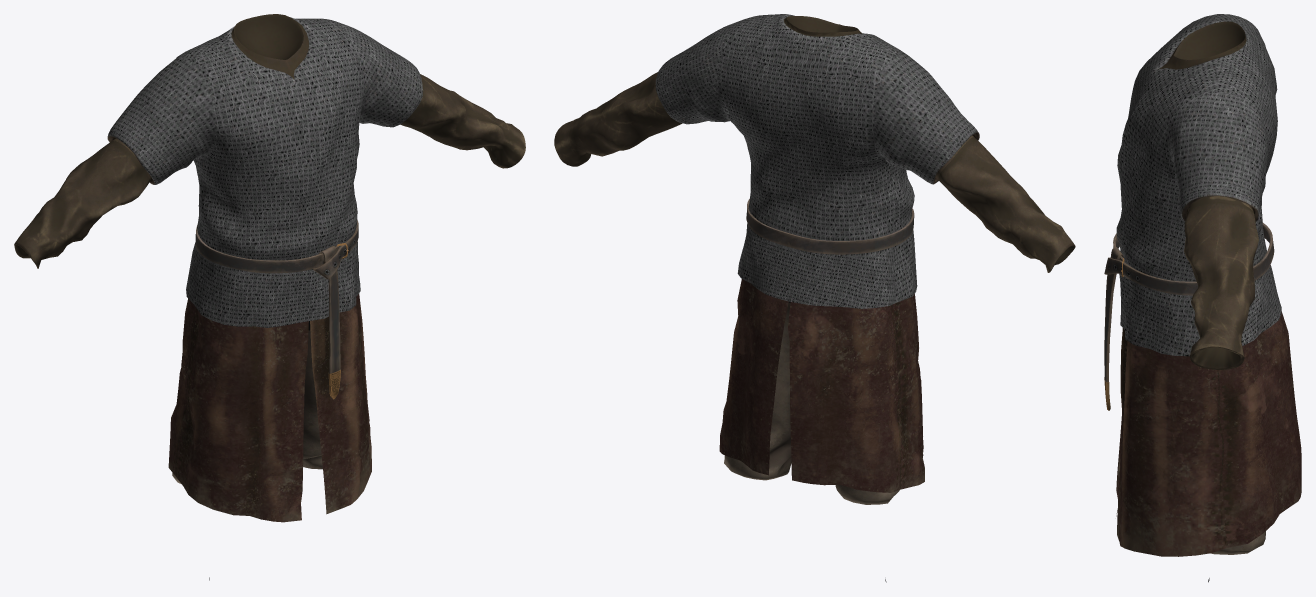
File: cts_rohan_armor33.fbx
3 renders of one model, left to right at view 1: azimuth 30°, elevation 25°; view 2: azimuth 150°, elevation 25°; view 3: azimuth 270°, elevation 25°, orthographic. The views are drawn at different scales.
Visible parts, largest first — view 1: cts_rohan_armor33; view 2: cts_rohan_armor33; view 3: cts_rohan_armor33.
Part boxes in pixels (x1=…): cts_rohan_armor33: x1=14, y1=14, x2=525, y2=580; cts_rohan_armor33: x1=554, y1=14, x2=1075, y2=582; cts_rohan_armor33: x1=1104, y1=14, x2=1301, y2=582.
Bounding box in the file's own units: 1.36 × 0.4323 × 1.4.
Materials: 1 (1 with a texture image).
